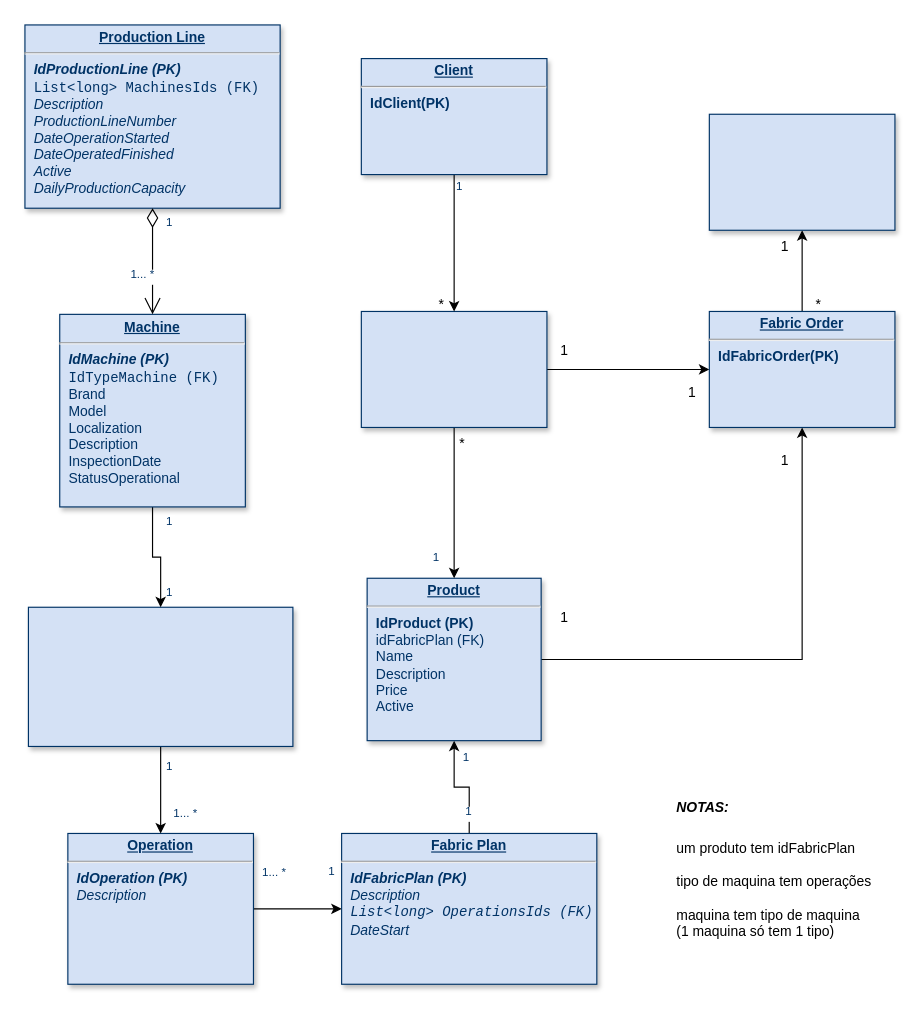
The diagram is 922 pixels wide and 1013 high, and some of its shapes have lost their labels. Here are the shapes that lost their labels. From the top down, the centre of each, then its label:
At pixel 803 173: "Production Plan IdProductionPlan(PK)".
At pixel 455 371: "Order IdOrder (PK)".
At pixel 161 678: "Type of Machines IdTypeMachine (PK) Description List<long> OperationsIds (FK)".
